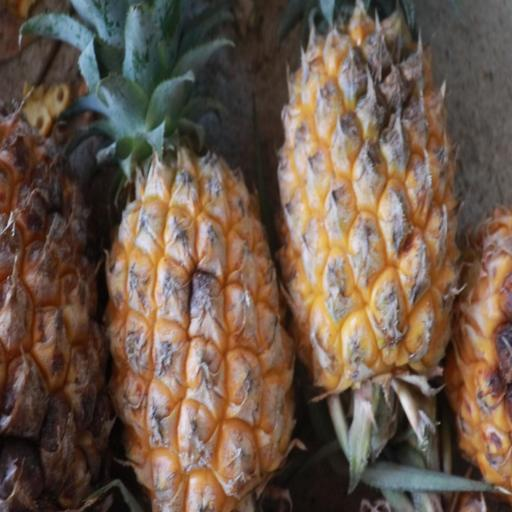Pineapple - v8 v1: (102, 0, 300, 512), (270, 0, 461, 413)
